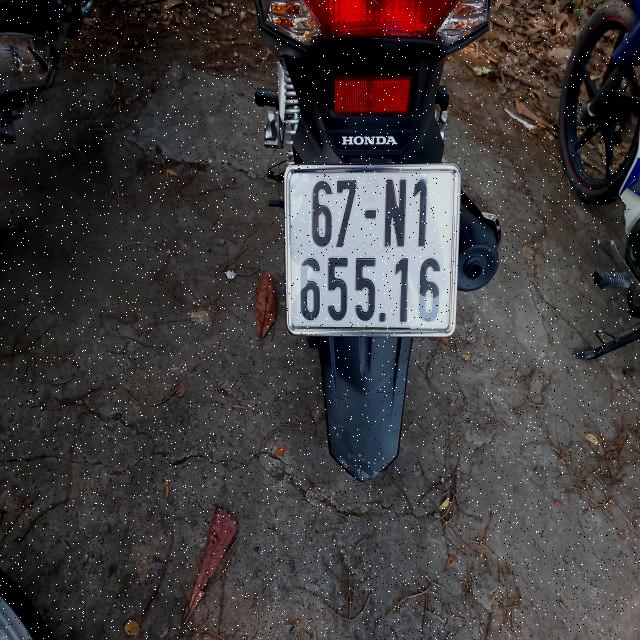1: (413, 178, 433, 249), (394, 254, 413, 328)
5: (326, 254, 350, 322), (353, 255, 376, 320)
6: (417, 253, 441, 323), (310, 176, 332, 247), (299, 252, 321, 323)
7: (333, 177, 360, 251)
N: (383, 176, 408, 248)
